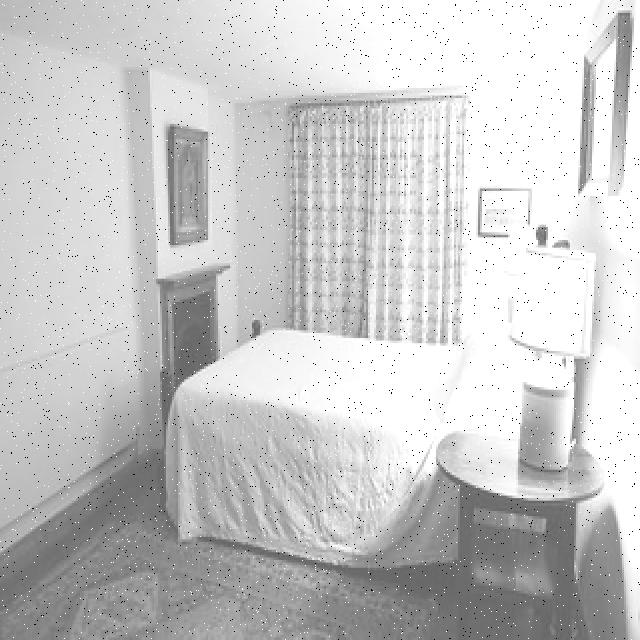bed: (180, 321, 507, 524)
